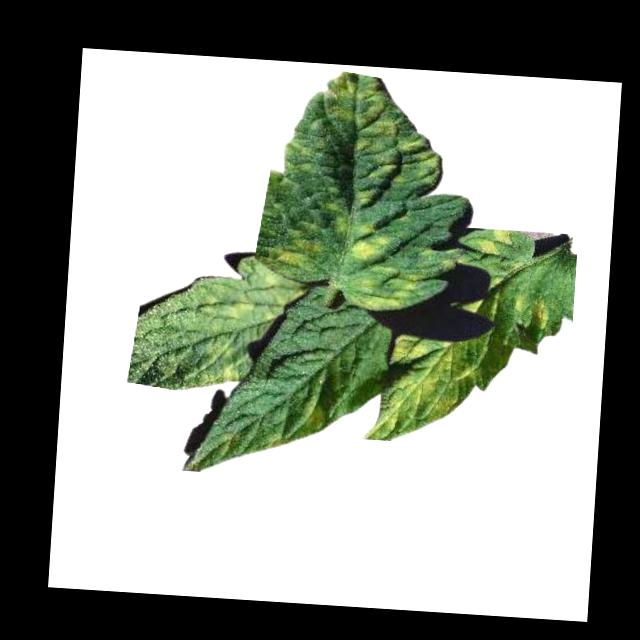Leaf_Mold: (319, 73, 447, 211), (367, 333, 480, 448), (187, 261, 307, 328), (347, 265, 422, 314), (186, 339, 241, 390), (267, 229, 325, 276), (348, 221, 391, 262), (296, 391, 329, 430), (474, 226, 511, 258), (529, 295, 549, 329), (259, 432, 285, 450)
